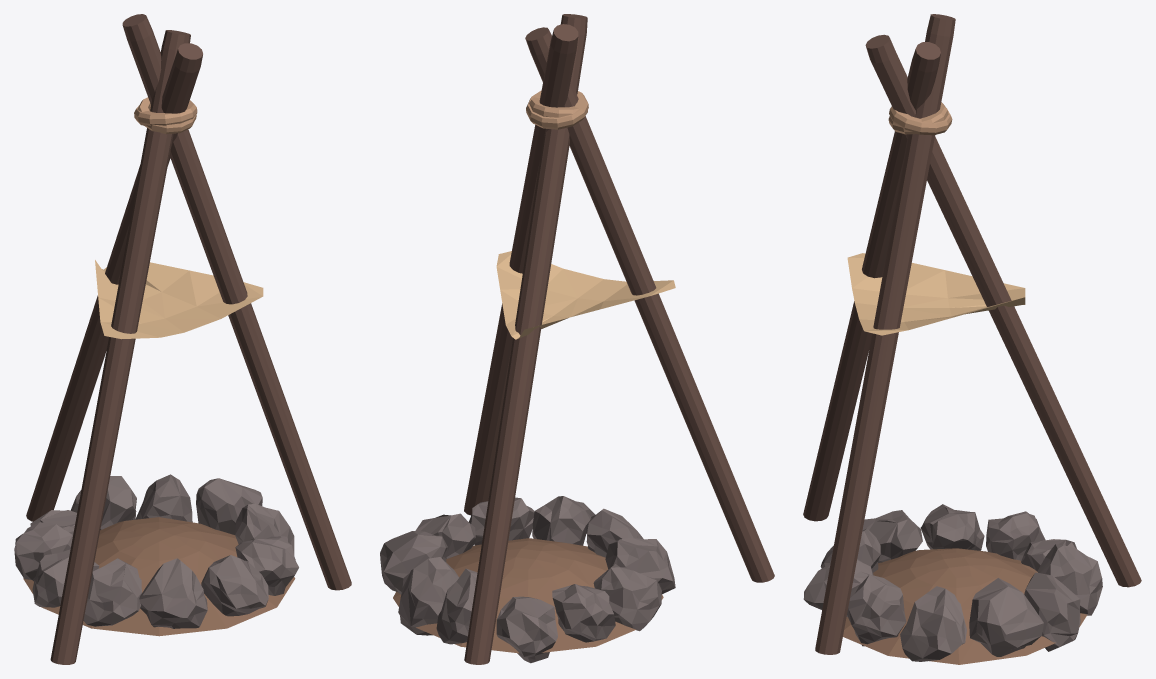
File: SM_fireplace_cookingplace.fbx
The picture shows the model from 3 angles, left to right: view 1: azimuth 30°, elevation 25°; view 2: azimuth 150°, elevation 25°; view 3: azimuth 270°, elevation 25°; orthographic projection.
Parts seen in each view (by area): view 1: fireplace_cookingplace; view 2: fireplace_cookingplace; view 3: fireplace_cookingplace.
Boxes of the visible parts, bbox=[...] form: fireplace_cookingplace: bbox=[14, 14, 351, 664]; fireplace_cookingplace: bbox=[380, 14, 774, 664]; fireplace_cookingplace: bbox=[803, 14, 1141, 664].
Bounding box in the file's own units: 97.34 × 181 × 93.63.
